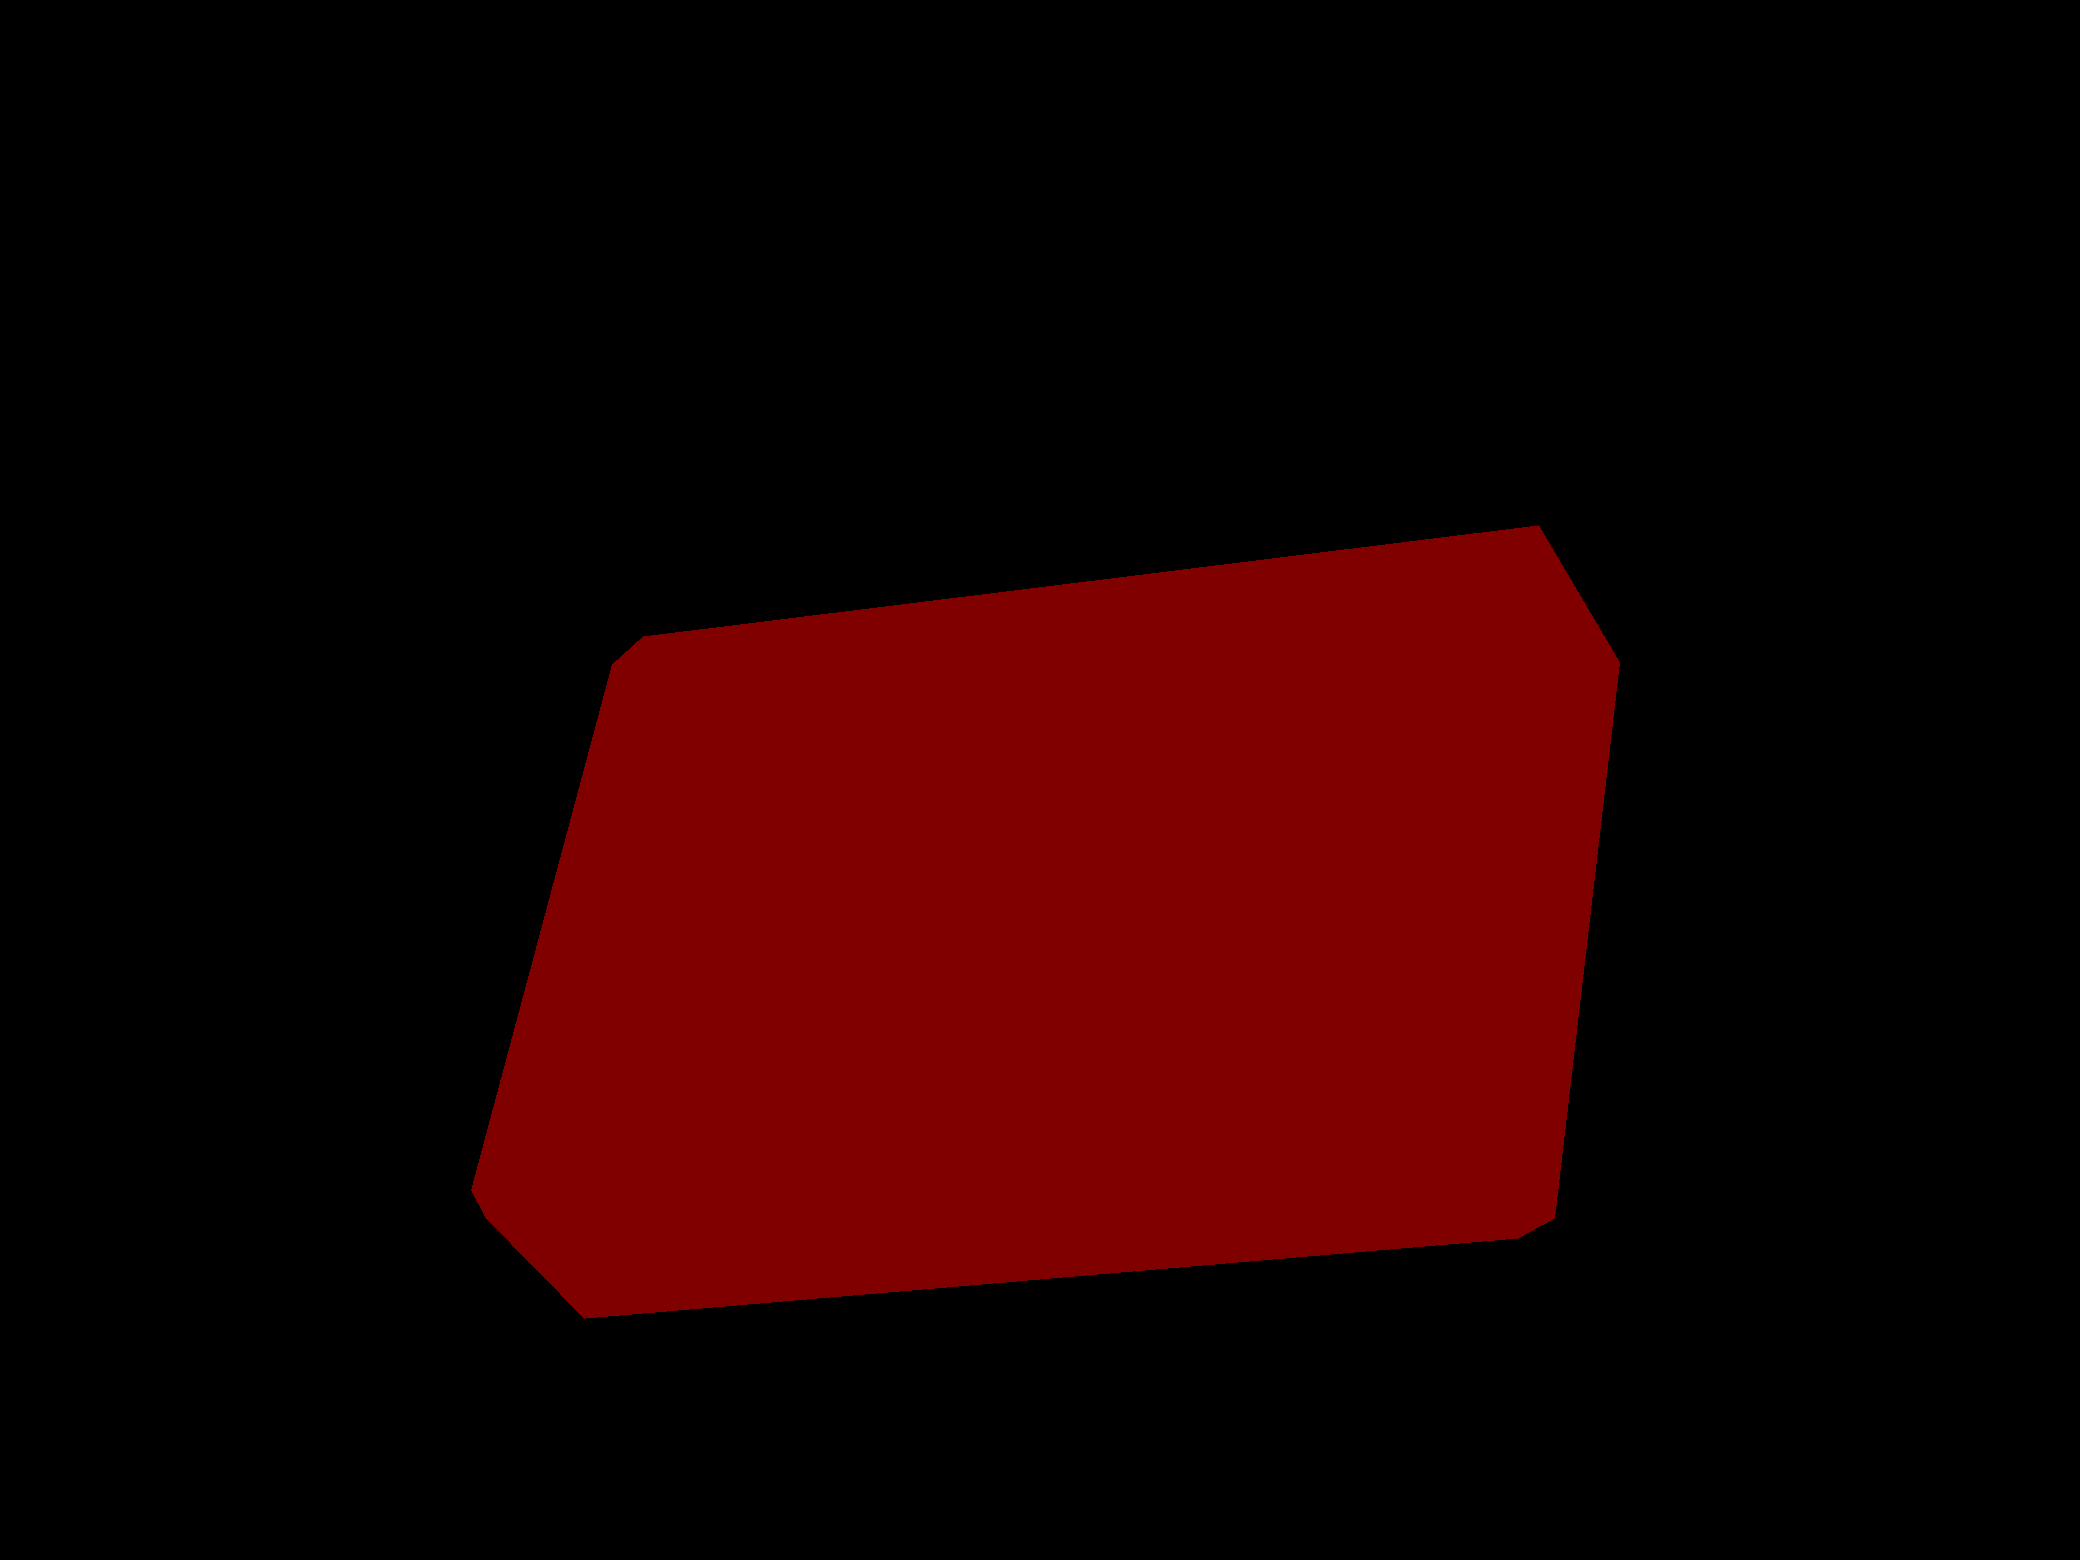sign: (472, 524, 1620, 1317)
